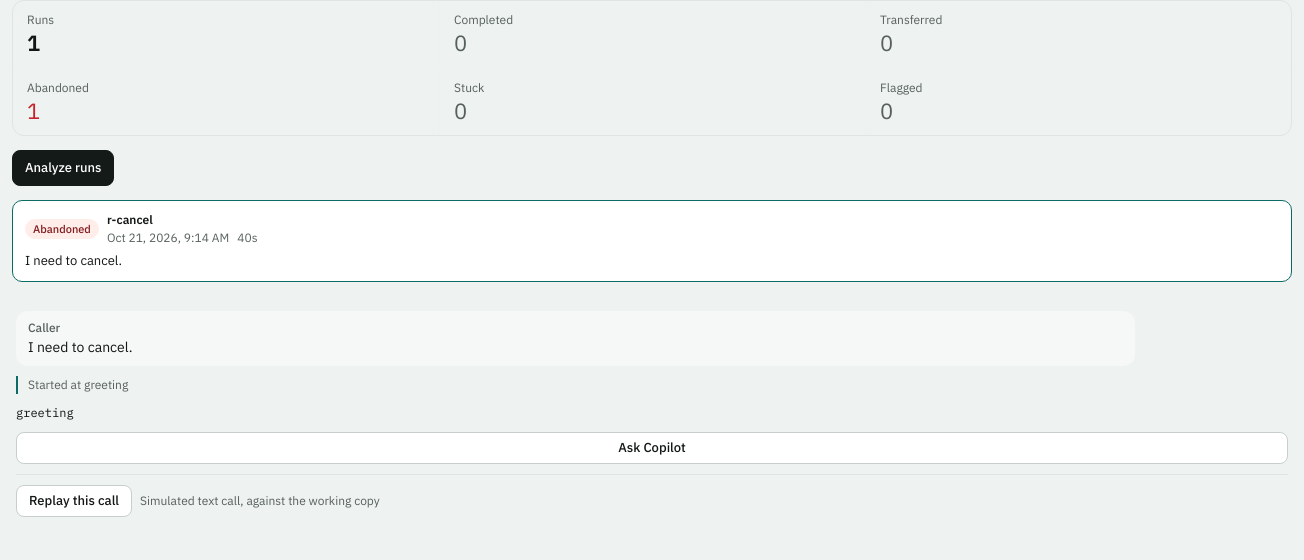
Replay this call › shows the error when replay could not run
Click the button "Replay this call" at (74, 501), box left=16, top=485, right=132, bottom=517
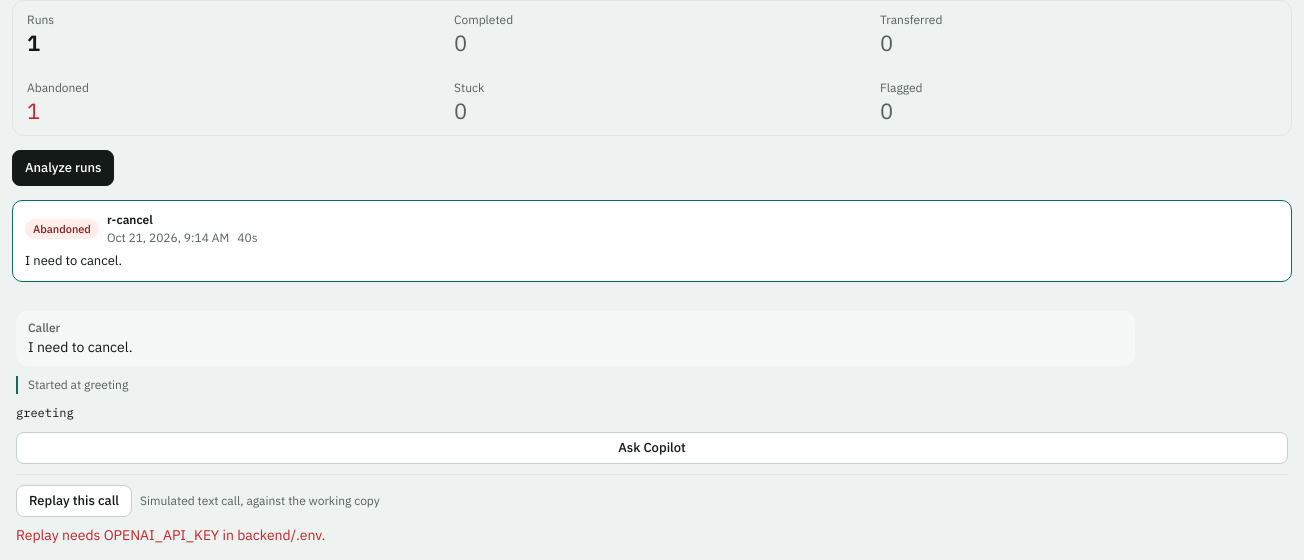
Check: the message shows "OPENAI_API_KEY", box left=16, top=526, right=325, bottom=544
